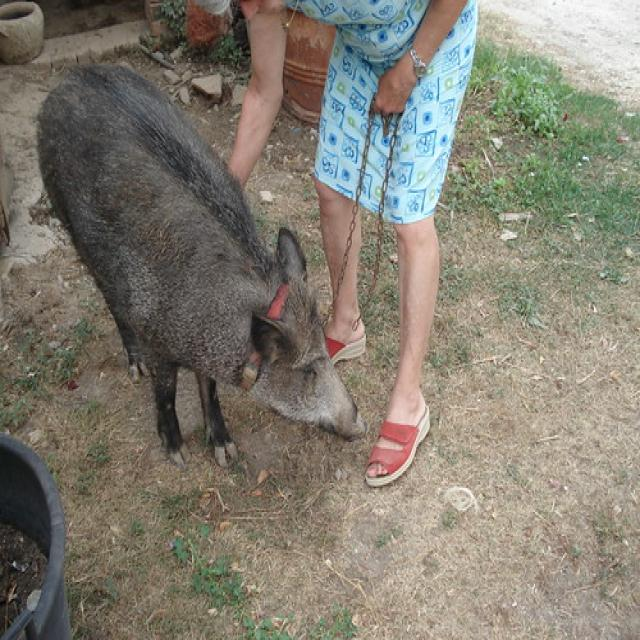boar: (20, 47, 348, 517)
